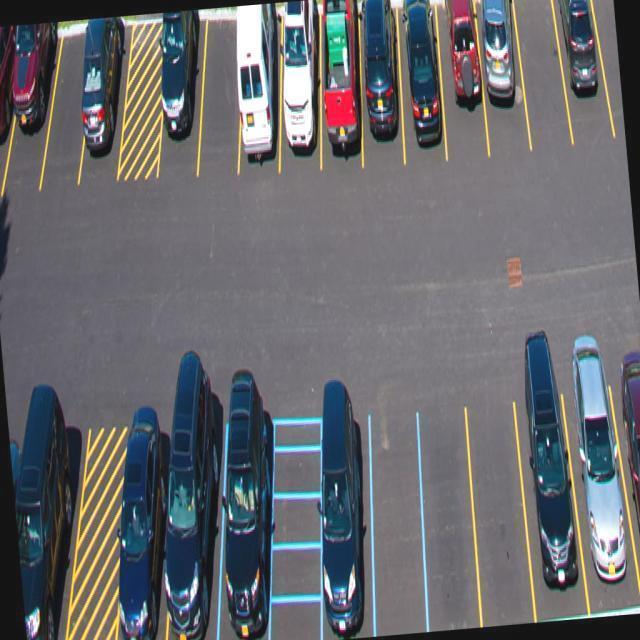space-empty: (461, 385, 531, 625), (414, 410, 484, 630), (365, 411, 430, 634), (30, 20, 102, 217), (187, 6, 255, 209), (513, 0, 572, 158)
space-occupied: (157, 360, 232, 640), (6, 387, 89, 640), (511, 360, 587, 621), (562, 355, 638, 615), (111, 391, 189, 640), (207, 396, 280, 640), (311, 394, 381, 638), (0, 22, 71, 226), (76, 16, 139, 226), (149, 9, 219, 193), (269, 0, 334, 196), (230, 3, 290, 192), (310, 0, 368, 176), (389, 0, 449, 169), (350, 0, 408, 174), (553, 0, 608, 160), (473, 0, 528, 158), (435, 0, 490, 157), (8, 415, 43, 640), (612, 356, 640, 610), (0, 24, 34, 214)
